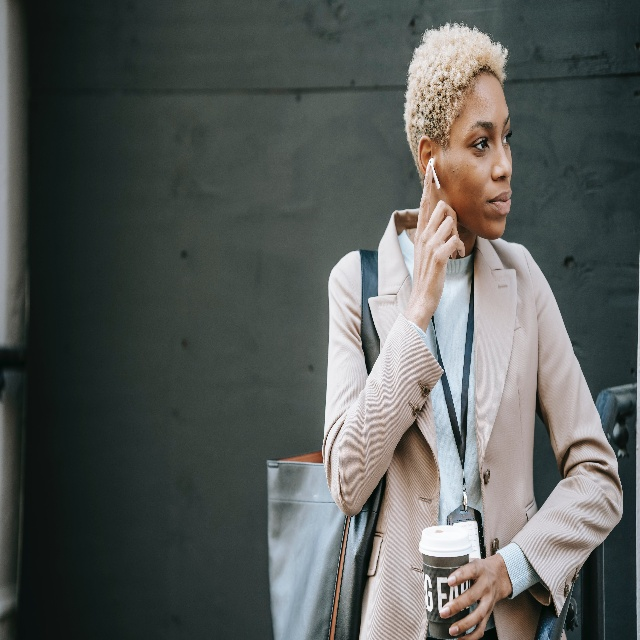Sin_guantes: (412, 163, 465, 315), (439, 558, 499, 640)
